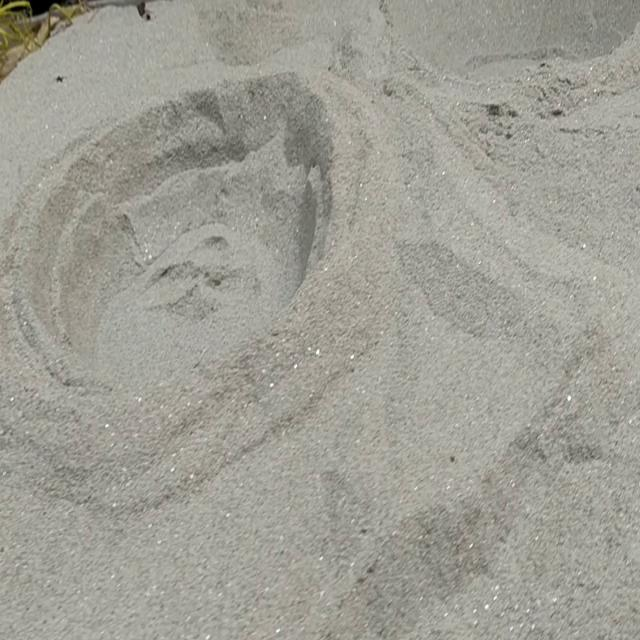C20: (14, 76, 330, 384)
